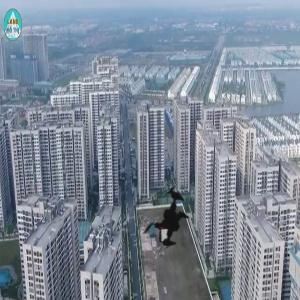drone: (121, 172, 213, 264)
